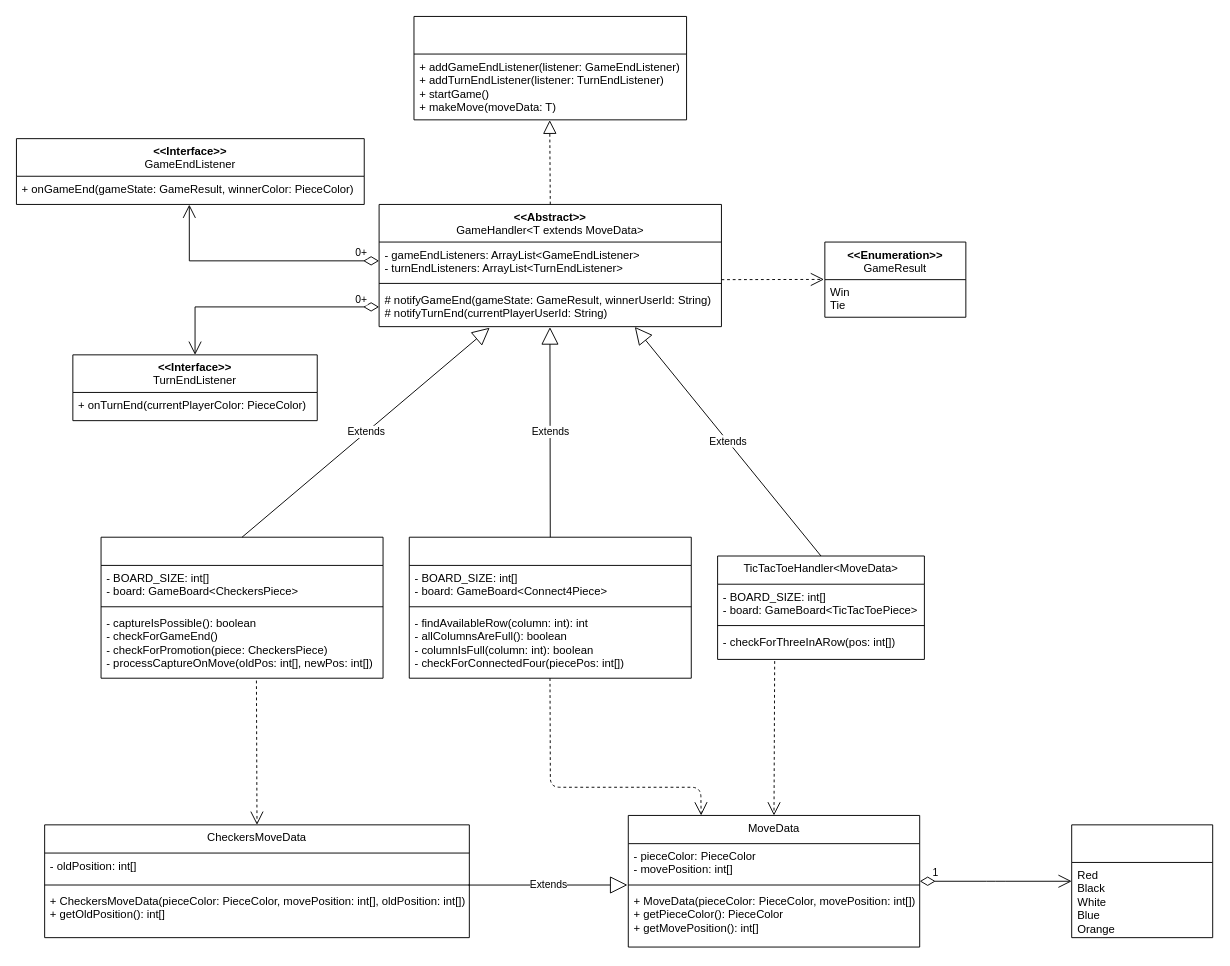
This 1230x966 diagram has some shape labels left out. The box of each missing label's shape, as (x1, y1, x2, y2) in pixels:
<<Enumeration>> PieceColor: (1071, 824, 1213, 938)
<<Interface>> IGameHandler<T extends MoveData>: (413, 16, 687, 120)
CheckersHandler<CheckersMoveData>: (100, 536, 383, 678)
Connect4Handler<MoveData>: (408, 536, 691, 678)
